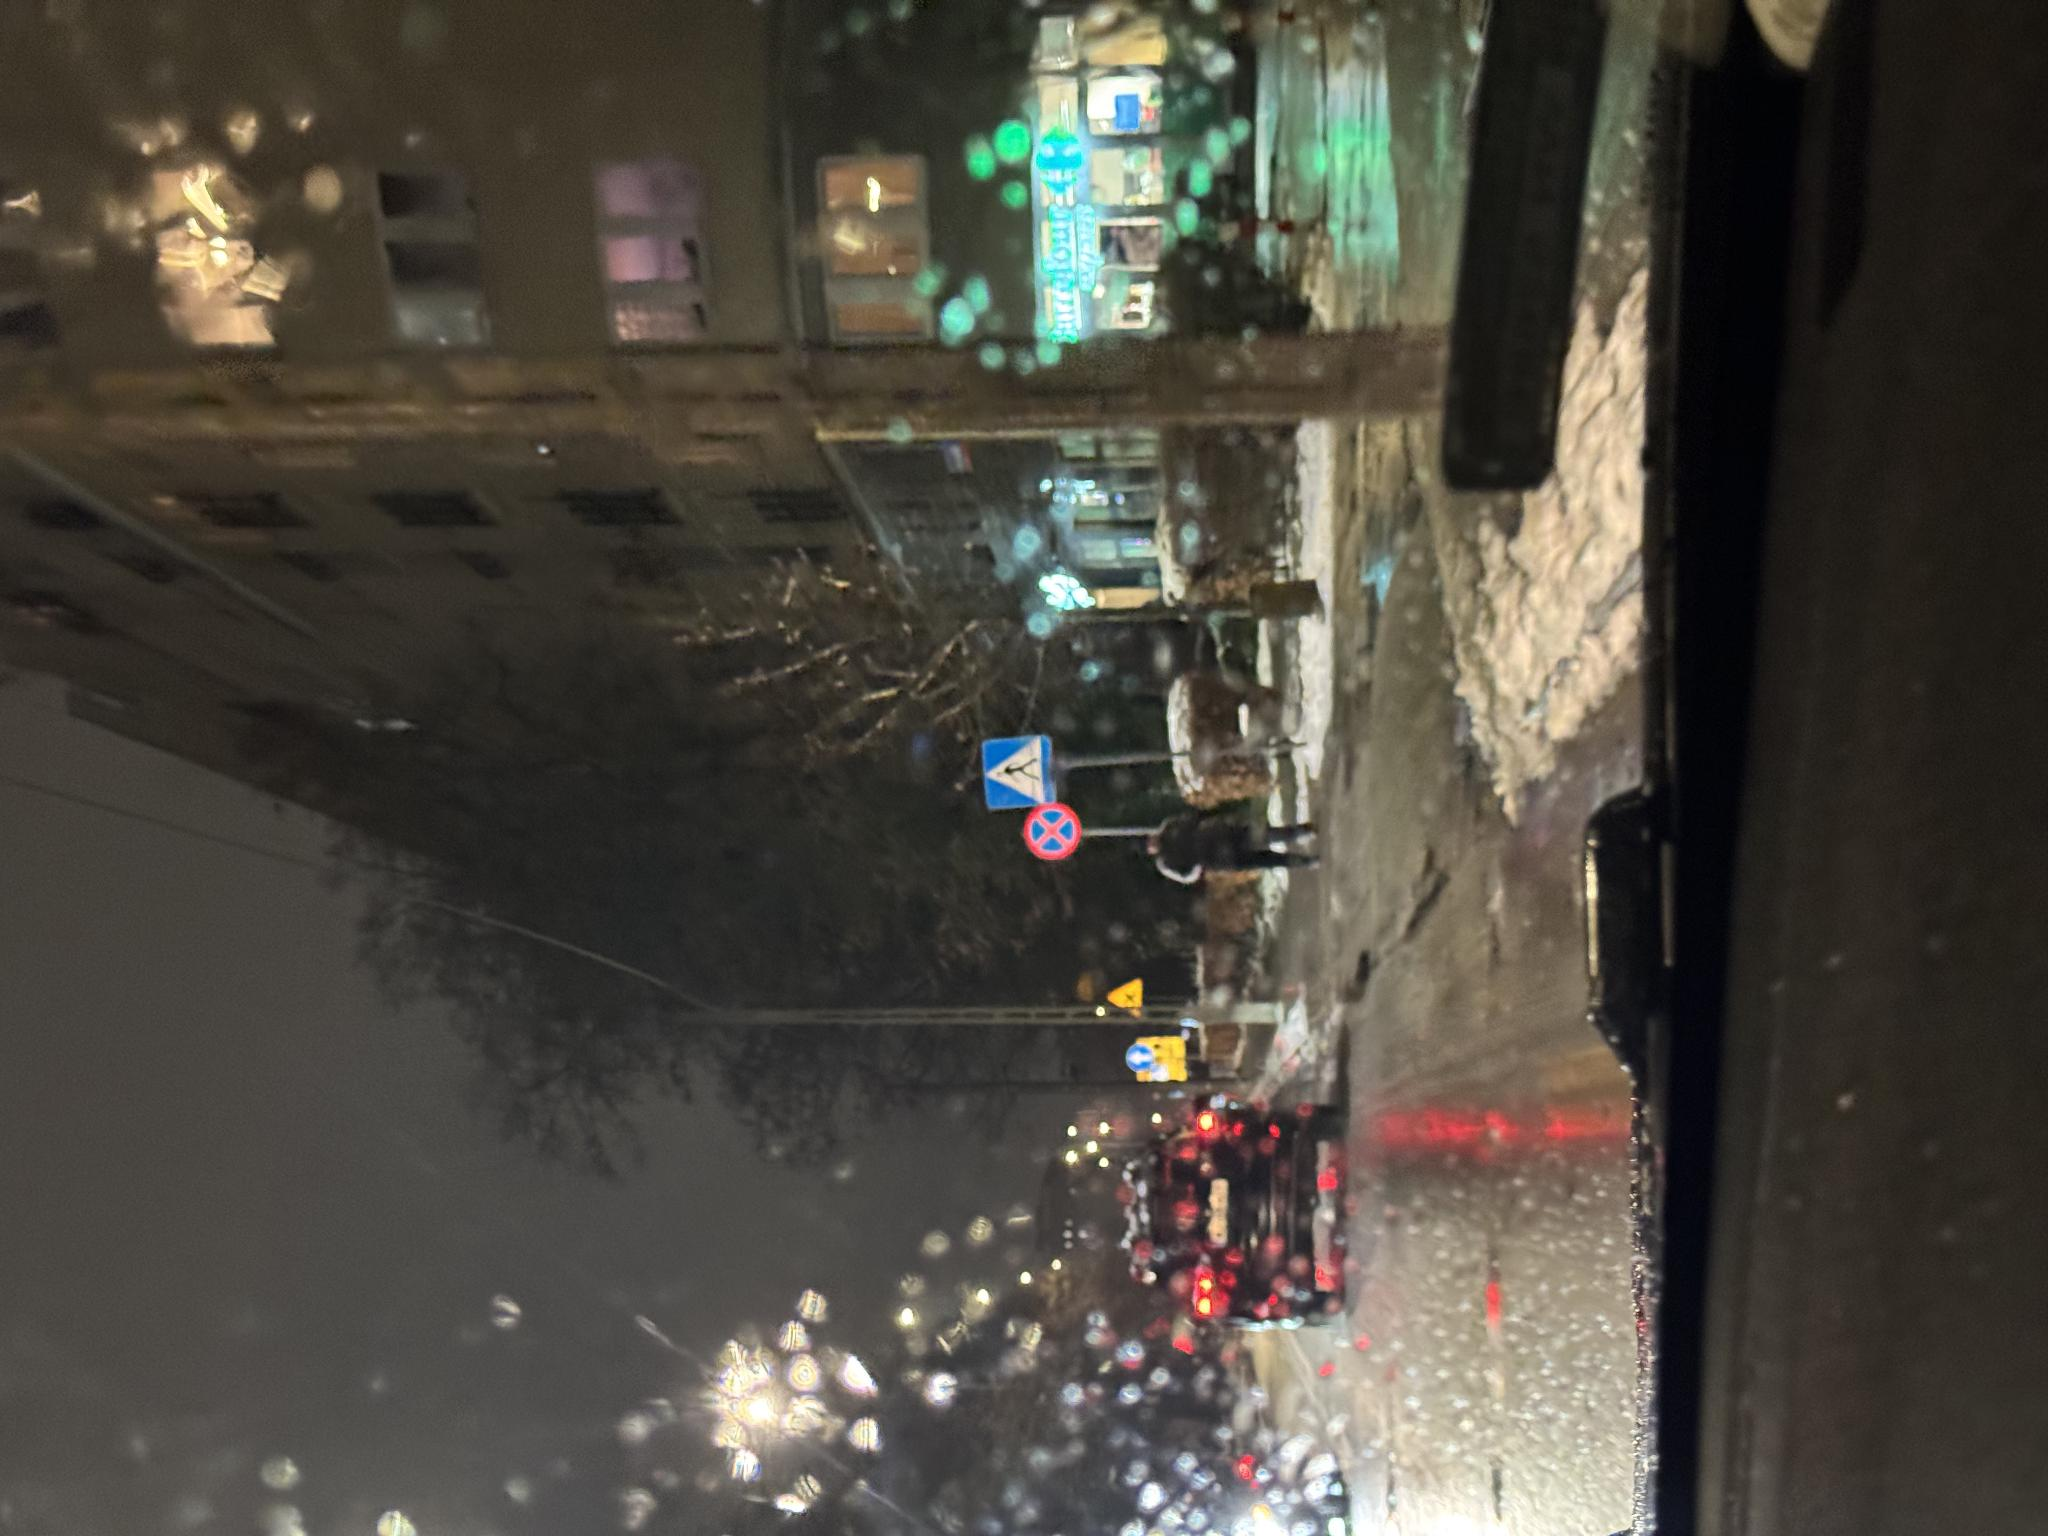information: (727, 983, 801, 1054)
mandatory: (463, 1126, 490, 1152)
other: (456, 1136, 500, 1187)
prohibitory: (676, 1023, 734, 1081)
warning: (531, 1105, 560, 1142)
